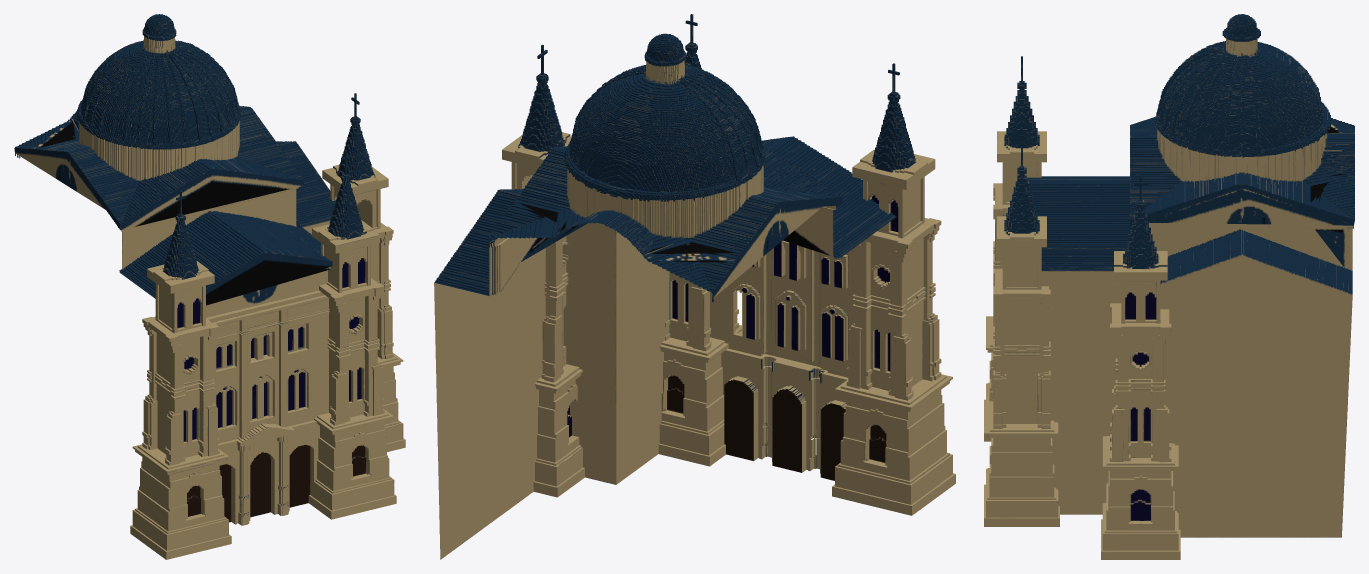
File: church.fbx
The picture shows the model from 3 angles, left to right: view 1: azimuth 30°, elevation 25°; view 2: azimuth 150°, elevation 25°; view 3: azimuth 270°, elevation 25°; orthographic projection. The views are drawn at different scales.
Parts seen in each view (by area): view 1: tower.003; view 2: tower.003; view 3: tower.003.
Part boxes in pixels (x1=…): tower.003: x1=14, y1=14, x2=405, y2=559; tower.003: x1=434, y1=14, x2=955, y2=559; tower.003: x1=984, y1=14, x2=1354, y2=559.
Bounding box in the file's own units: 3166 × 3070 × 4251.
Materials: 4 (4 with a texture image).
